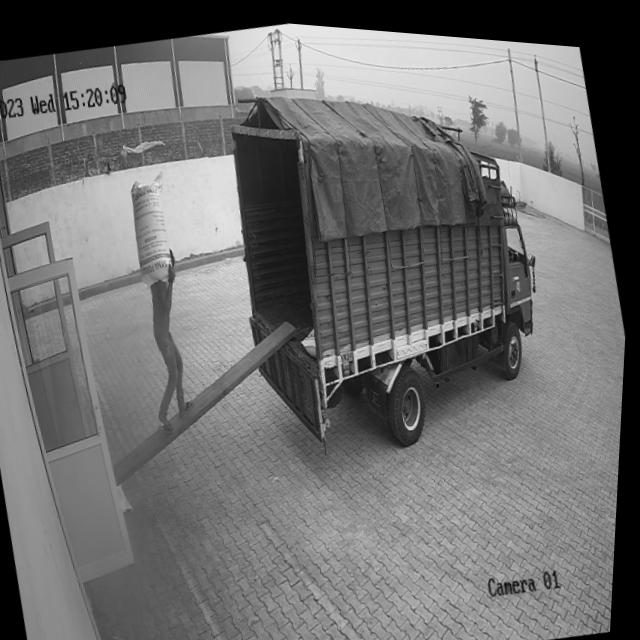sack: (121, 164, 186, 286)
